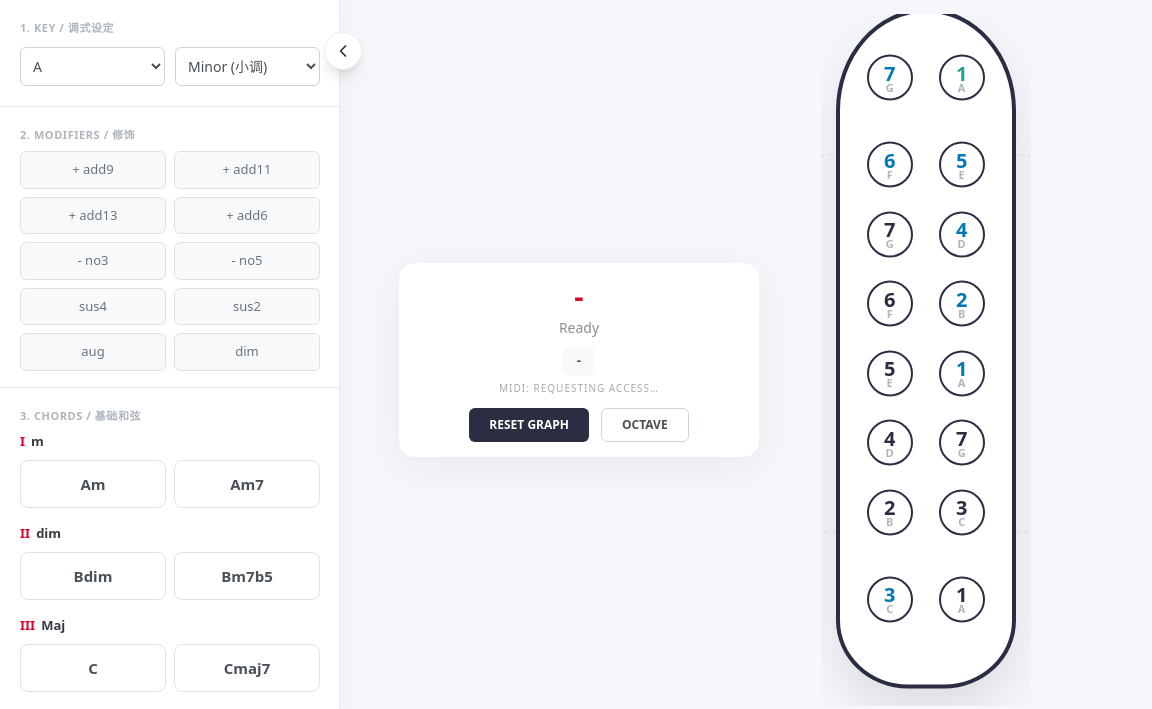
Test: Khaen app › shows C-major degrees on the relative A-minor pipe layout
Step 1. Select "C" in the 1st dropdown → (92, 66), box x1=20 y1=46 x2=165 y2=86
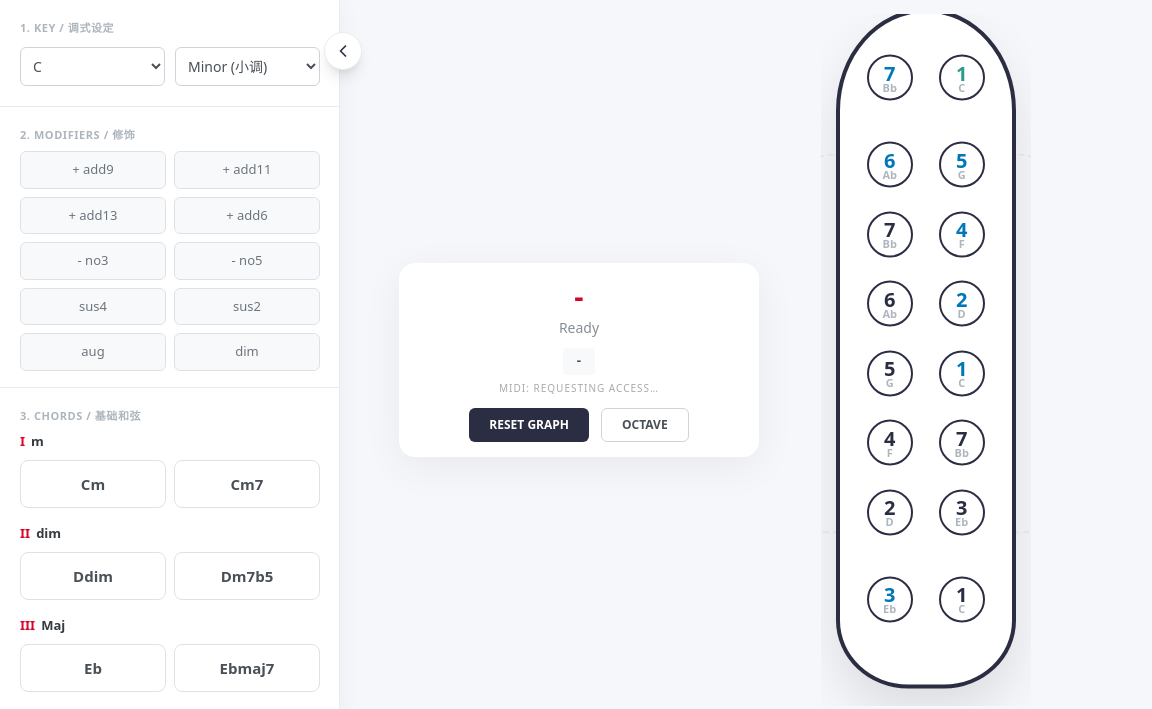
Step 2. Select "Major (大调)" in the 2nd dropdown → (248, 66), box x1=175 y1=46 x2=320 y2=86
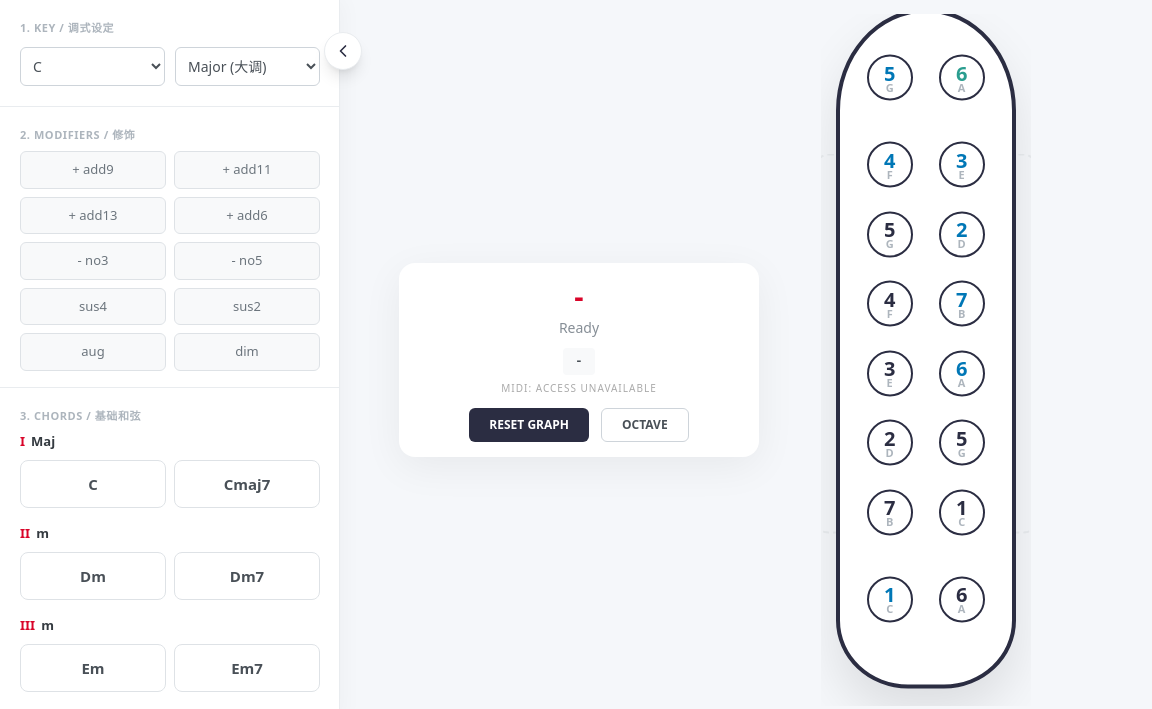
Result: the element with test id "pipe-R1" reads "6 A" at x1=939 y1=576 x2=985 y2=622
Result: the element with test id "pipe-R2" reads "1 C" at x1=939 y1=489 x2=985 y2=535
Result: the element with test id "pipe-R3" reads "5 G" at x1=939 y1=420 x2=985 y2=466
